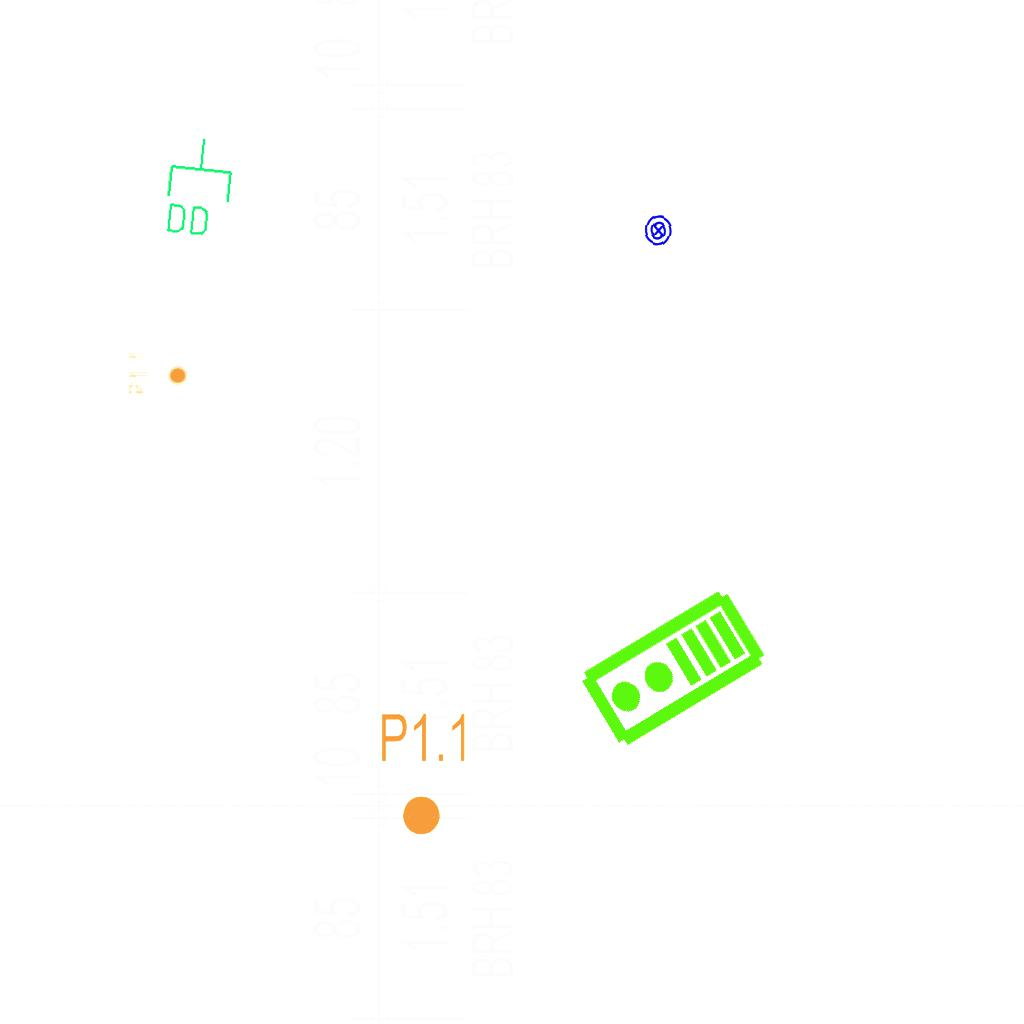Datenanschluss_zweifach: (158, 132, 239, 243)
Downlight_LED_Einbauleuchten_Flur: (378, 710, 471, 838), (125, 351, 189, 397)
Gegensprechanlage_mit_Video: (573, 583, 774, 757)
Taster_beleuchtet: (640, 212, 677, 249)
